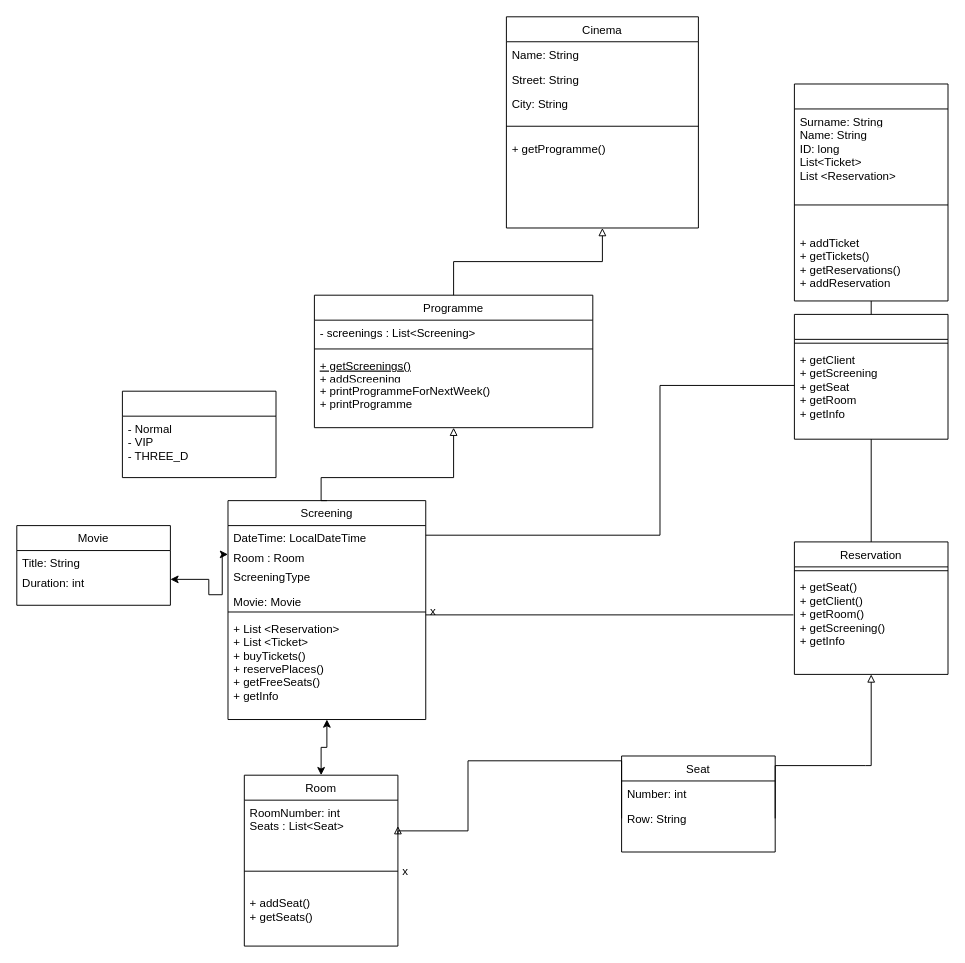
Some shapes in this 965 by 963 pixel diagram are drawn without their labels. The box of each missing label's shape, as (x1, y1, x2, y2) in pixels:
Client: (793, 83, 948, 301)
ScreeningType (enum): (121, 390, 276, 478)
Ticket: (793, 313, 948, 439)
